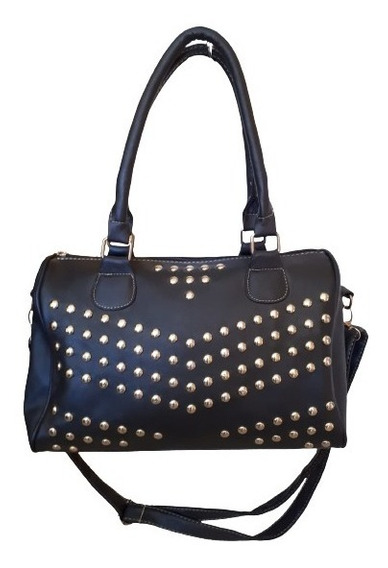cartera: (22, 25, 371, 453)
